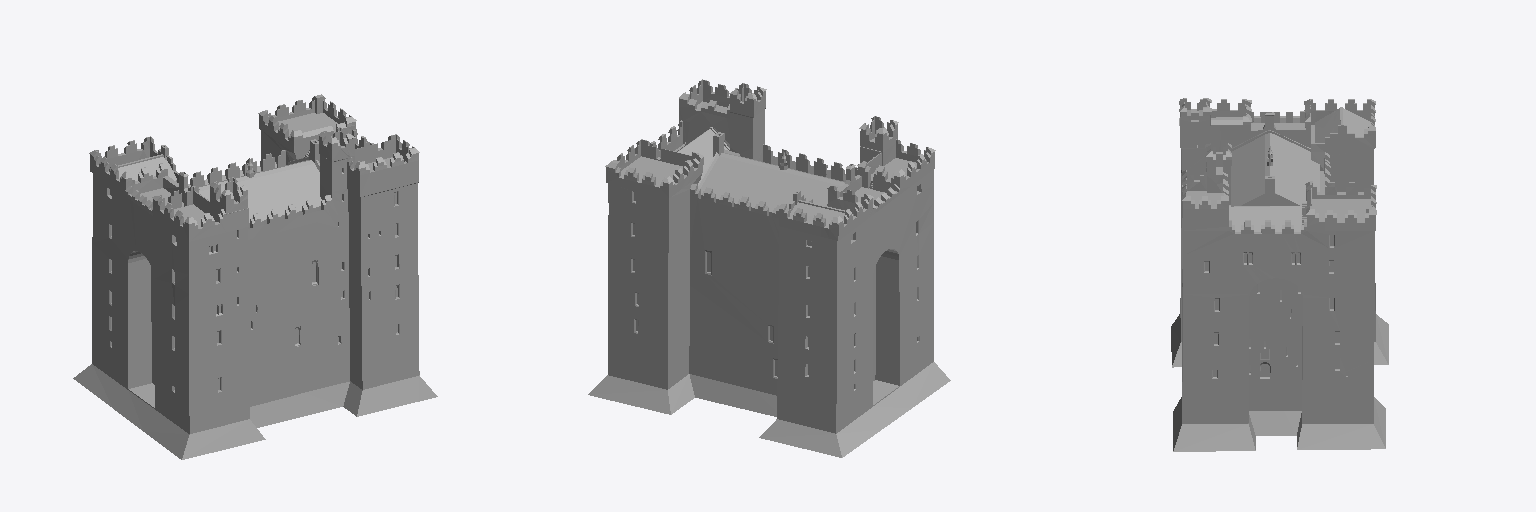
Rendered from CASTLE2.obj.
3 views of the same model, side by side, from view 1: azimuth 30°, elevation 25°; view 2: azimuth 150°, elevation 25°; view 3: azimuth 270°, elevation 25° (orthographic).
Parts seen in each view (by area): view 1: object_0; view 2: object_0; view 3: object_0.
Boxes of the visible parts, x1=… form: object_0: x1=73, y1=94, x2=437, y2=459; object_0: x1=588, y1=79, x2=950, y2=457; object_0: x1=1171, y1=98, x2=1388, y2=451.
Bounding box in the file's own units: 3.54 × 3.5 × 2.59.